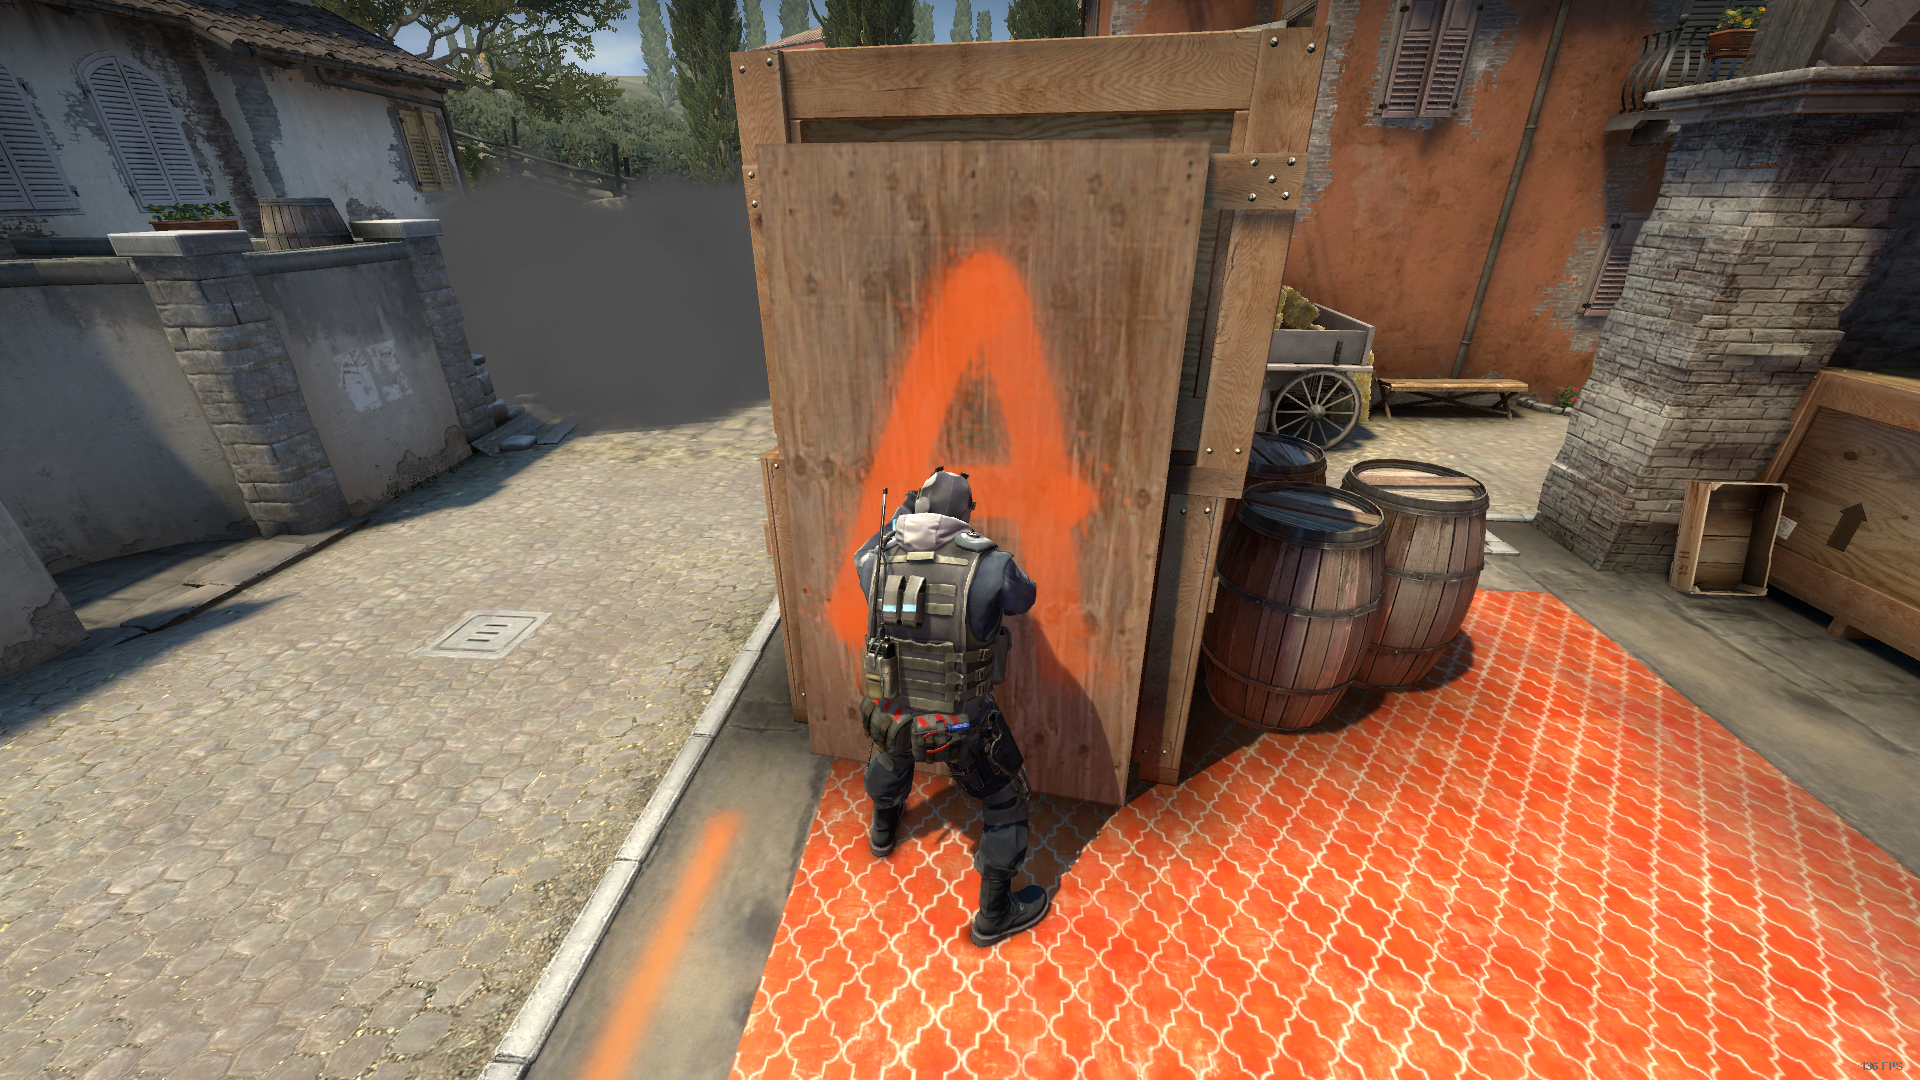ct: (855, 467, 1050, 947)
